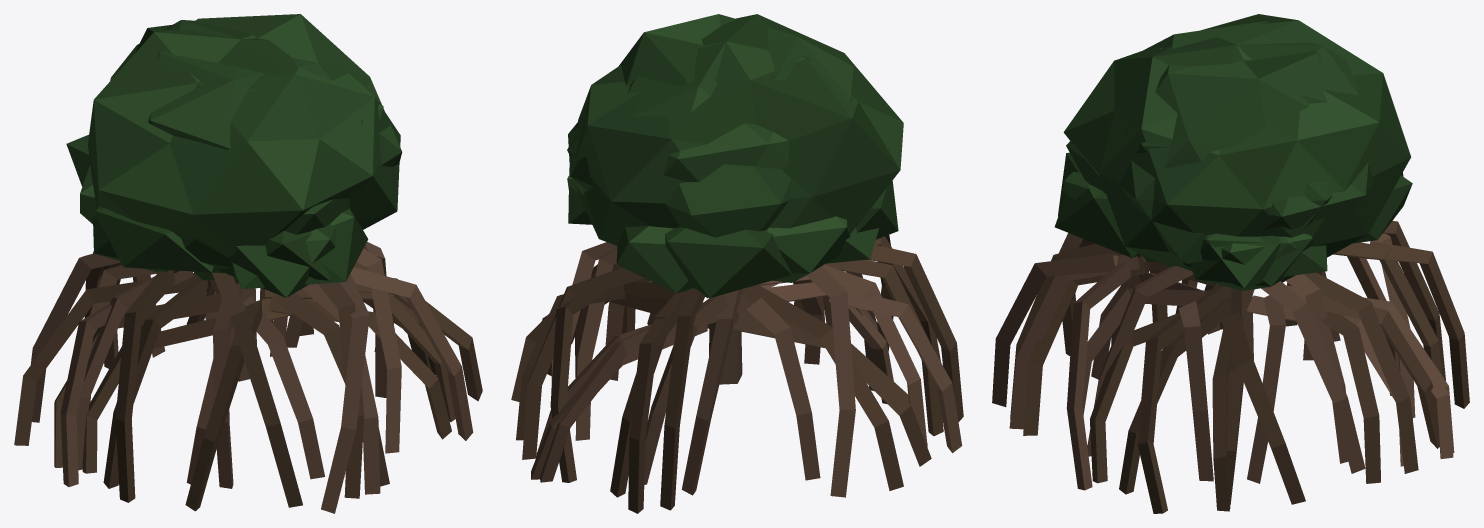
Rendered from mangrove.glb.
The picture shows the model from 3 angles, left to right: view 1: azimuth 30°, elevation 25°; view 2: azimuth 150°, elevation 25°; view 3: azimuth 270°, elevation 25°; orthographic projection.
Parts seen in each view (by area): view 1: mangrove_v0, mangrove_v1, mangrove_v2; view 2: mangrove_v0, mangrove_v1, mangrove_v2; view 3: mangrove_v0, mangrove_v1, mangrove_v2.
Part boxes in pixels (box(x1,y1,x2,y2)): mangrove_v0: box(54, 24, 451, 513); mangrove_v1: box(14, 14, 482, 494); mangrove_v2: box(76, 20, 473, 507); mangrove_v0: box(511, 14, 963, 513); mangrove_v1: box(516, 14, 943, 497); mangrove_v2: box(531, 41, 927, 510); mangrove_v0: box(992, 14, 1469, 504); mangrove_v1: box(1009, 21, 1454, 513); mangrove_v2: box(1010, 42, 1453, 511).
Size of the model in its own units: 5.16 by 4.59 by 5.3.
